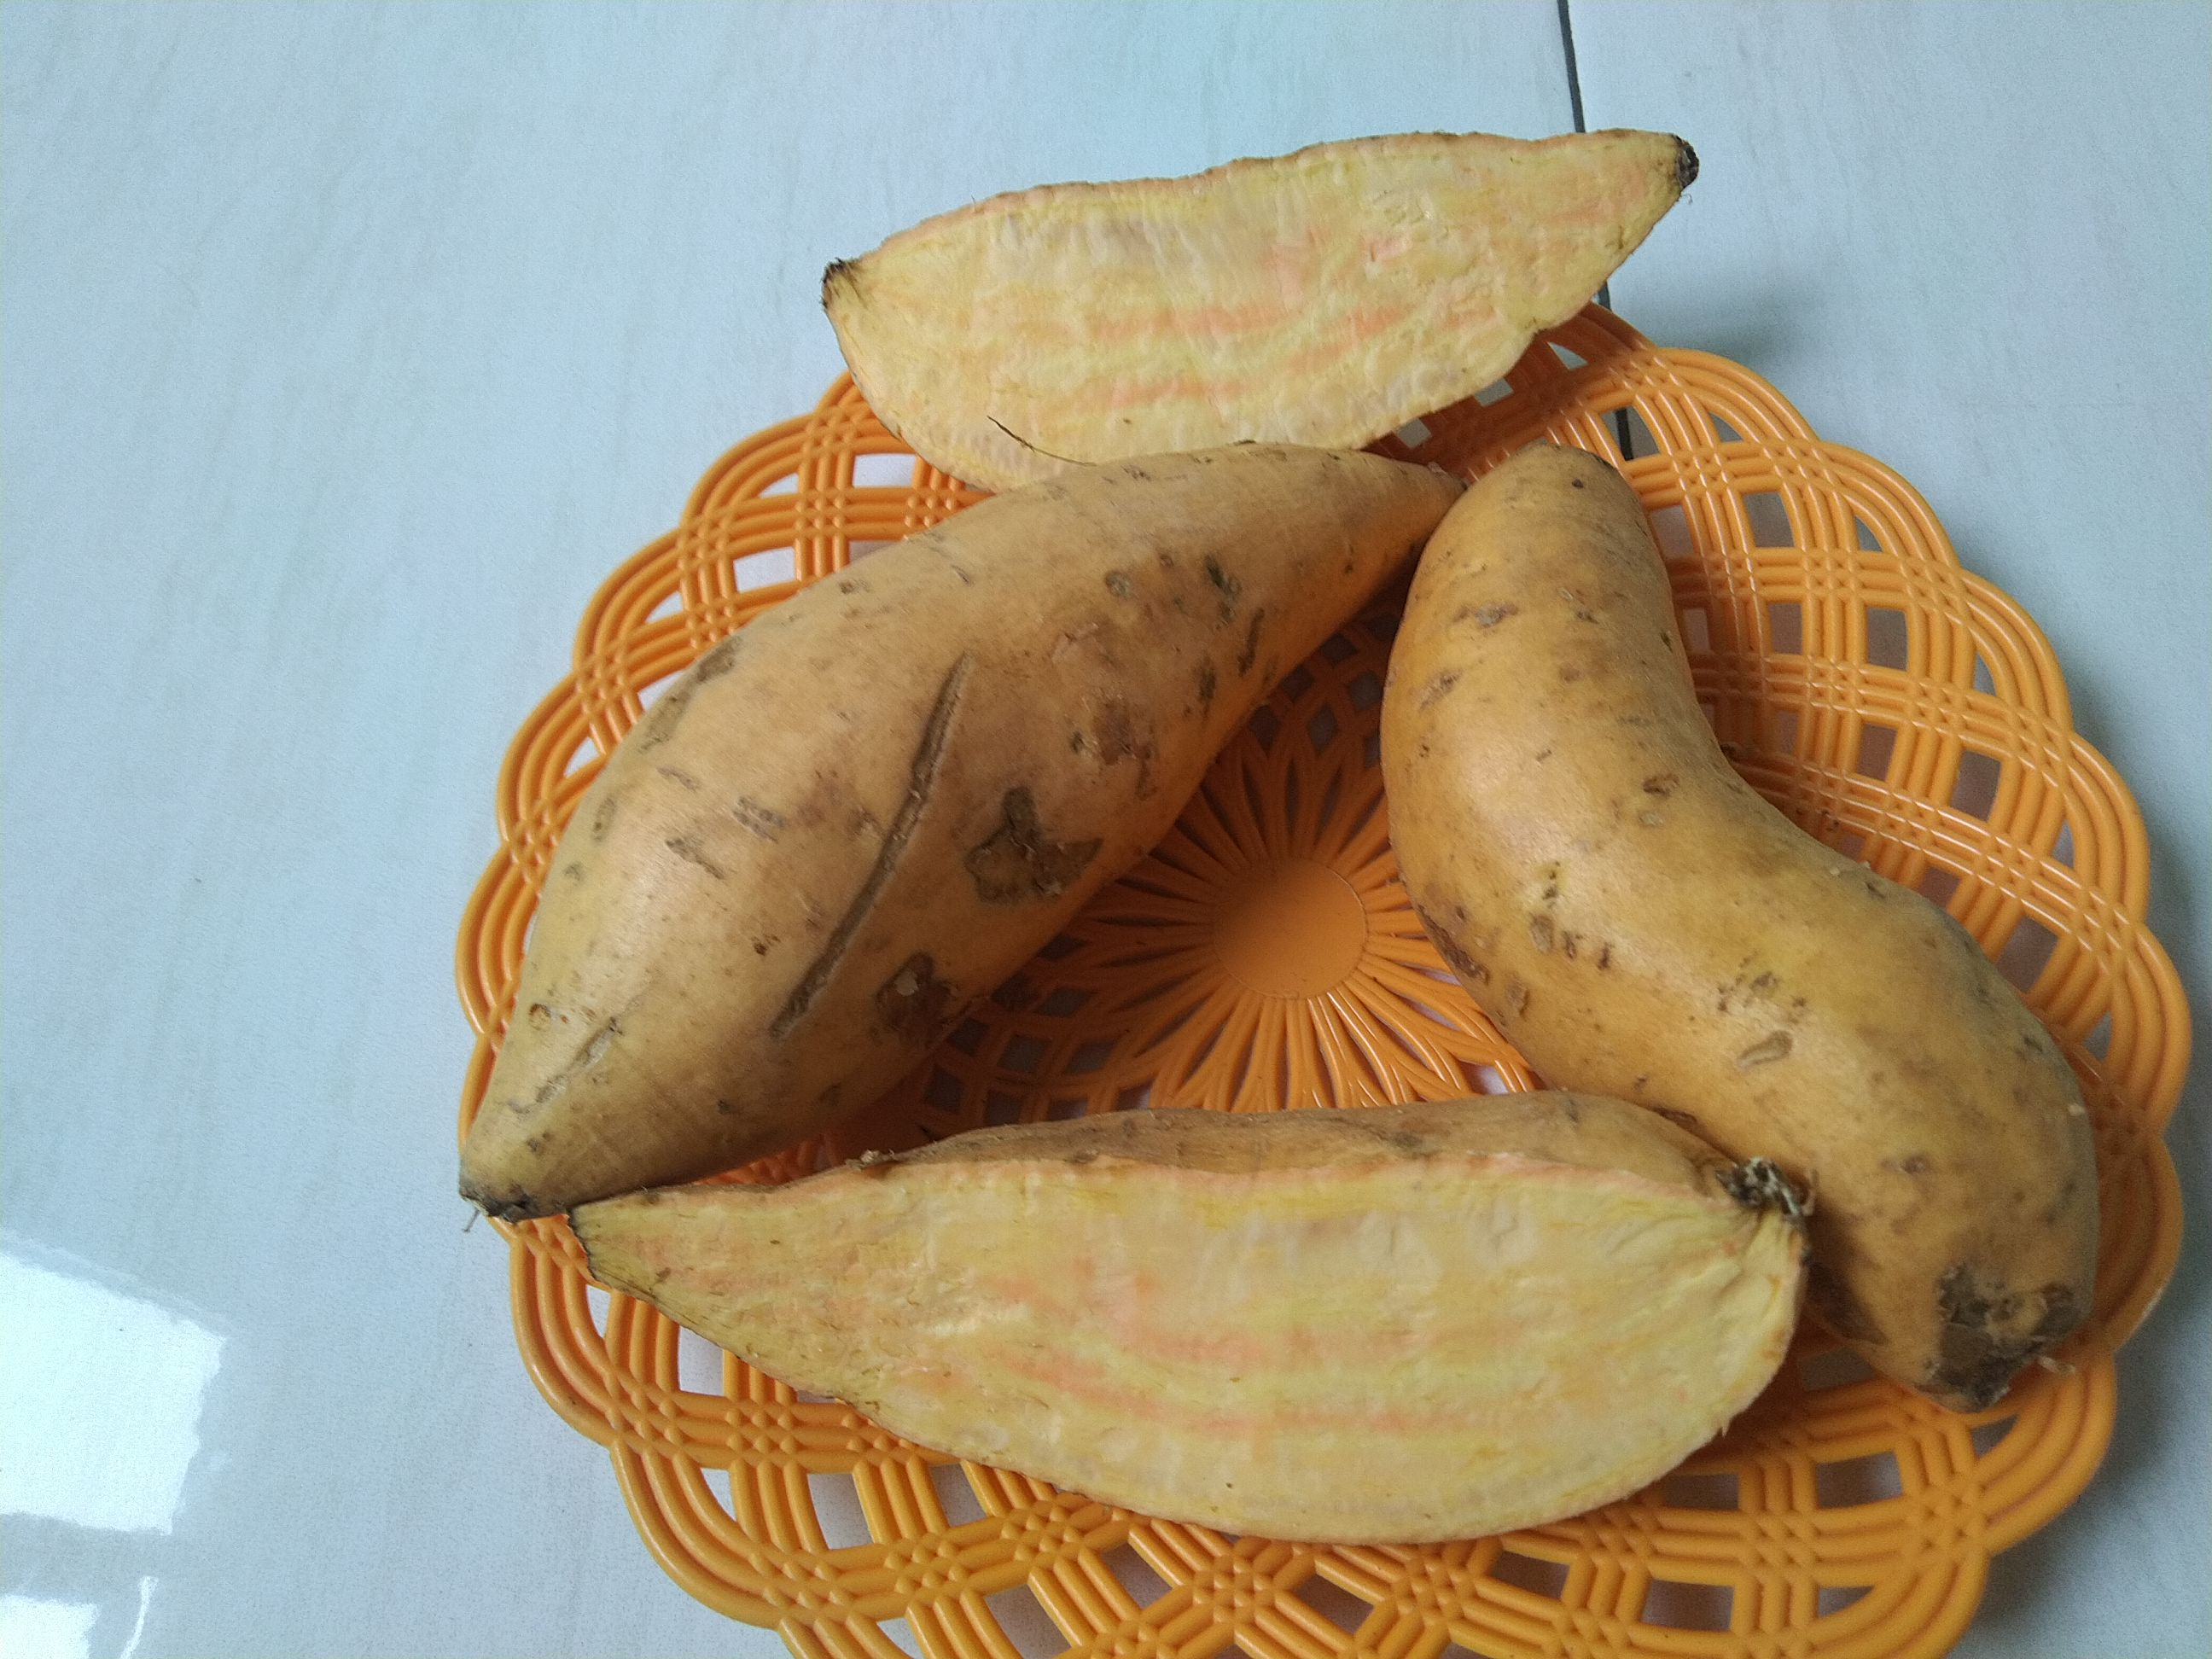ubi cilembu: (1379, 444, 2186, 1460), (448, 448, 1480, 1222), (542, 1094, 1855, 1547), (817, 110, 1721, 502)
